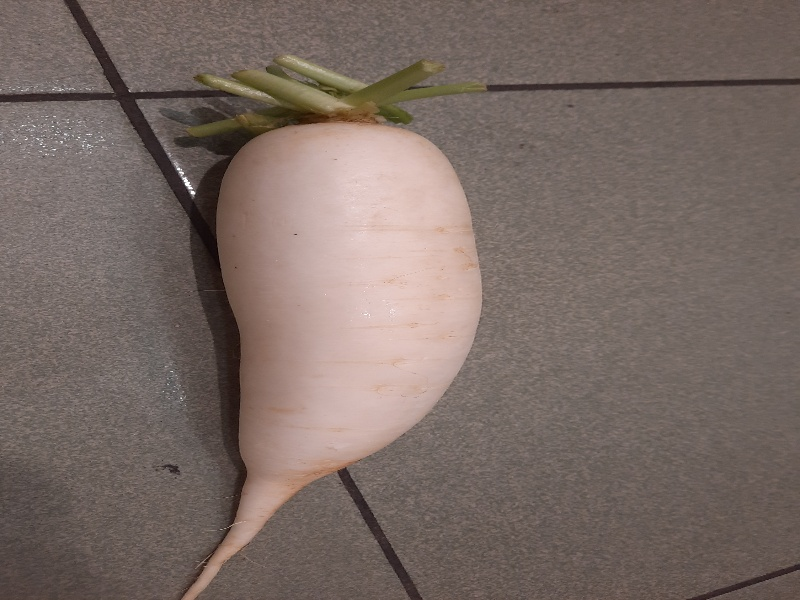vege: (171, 50, 485, 600)
